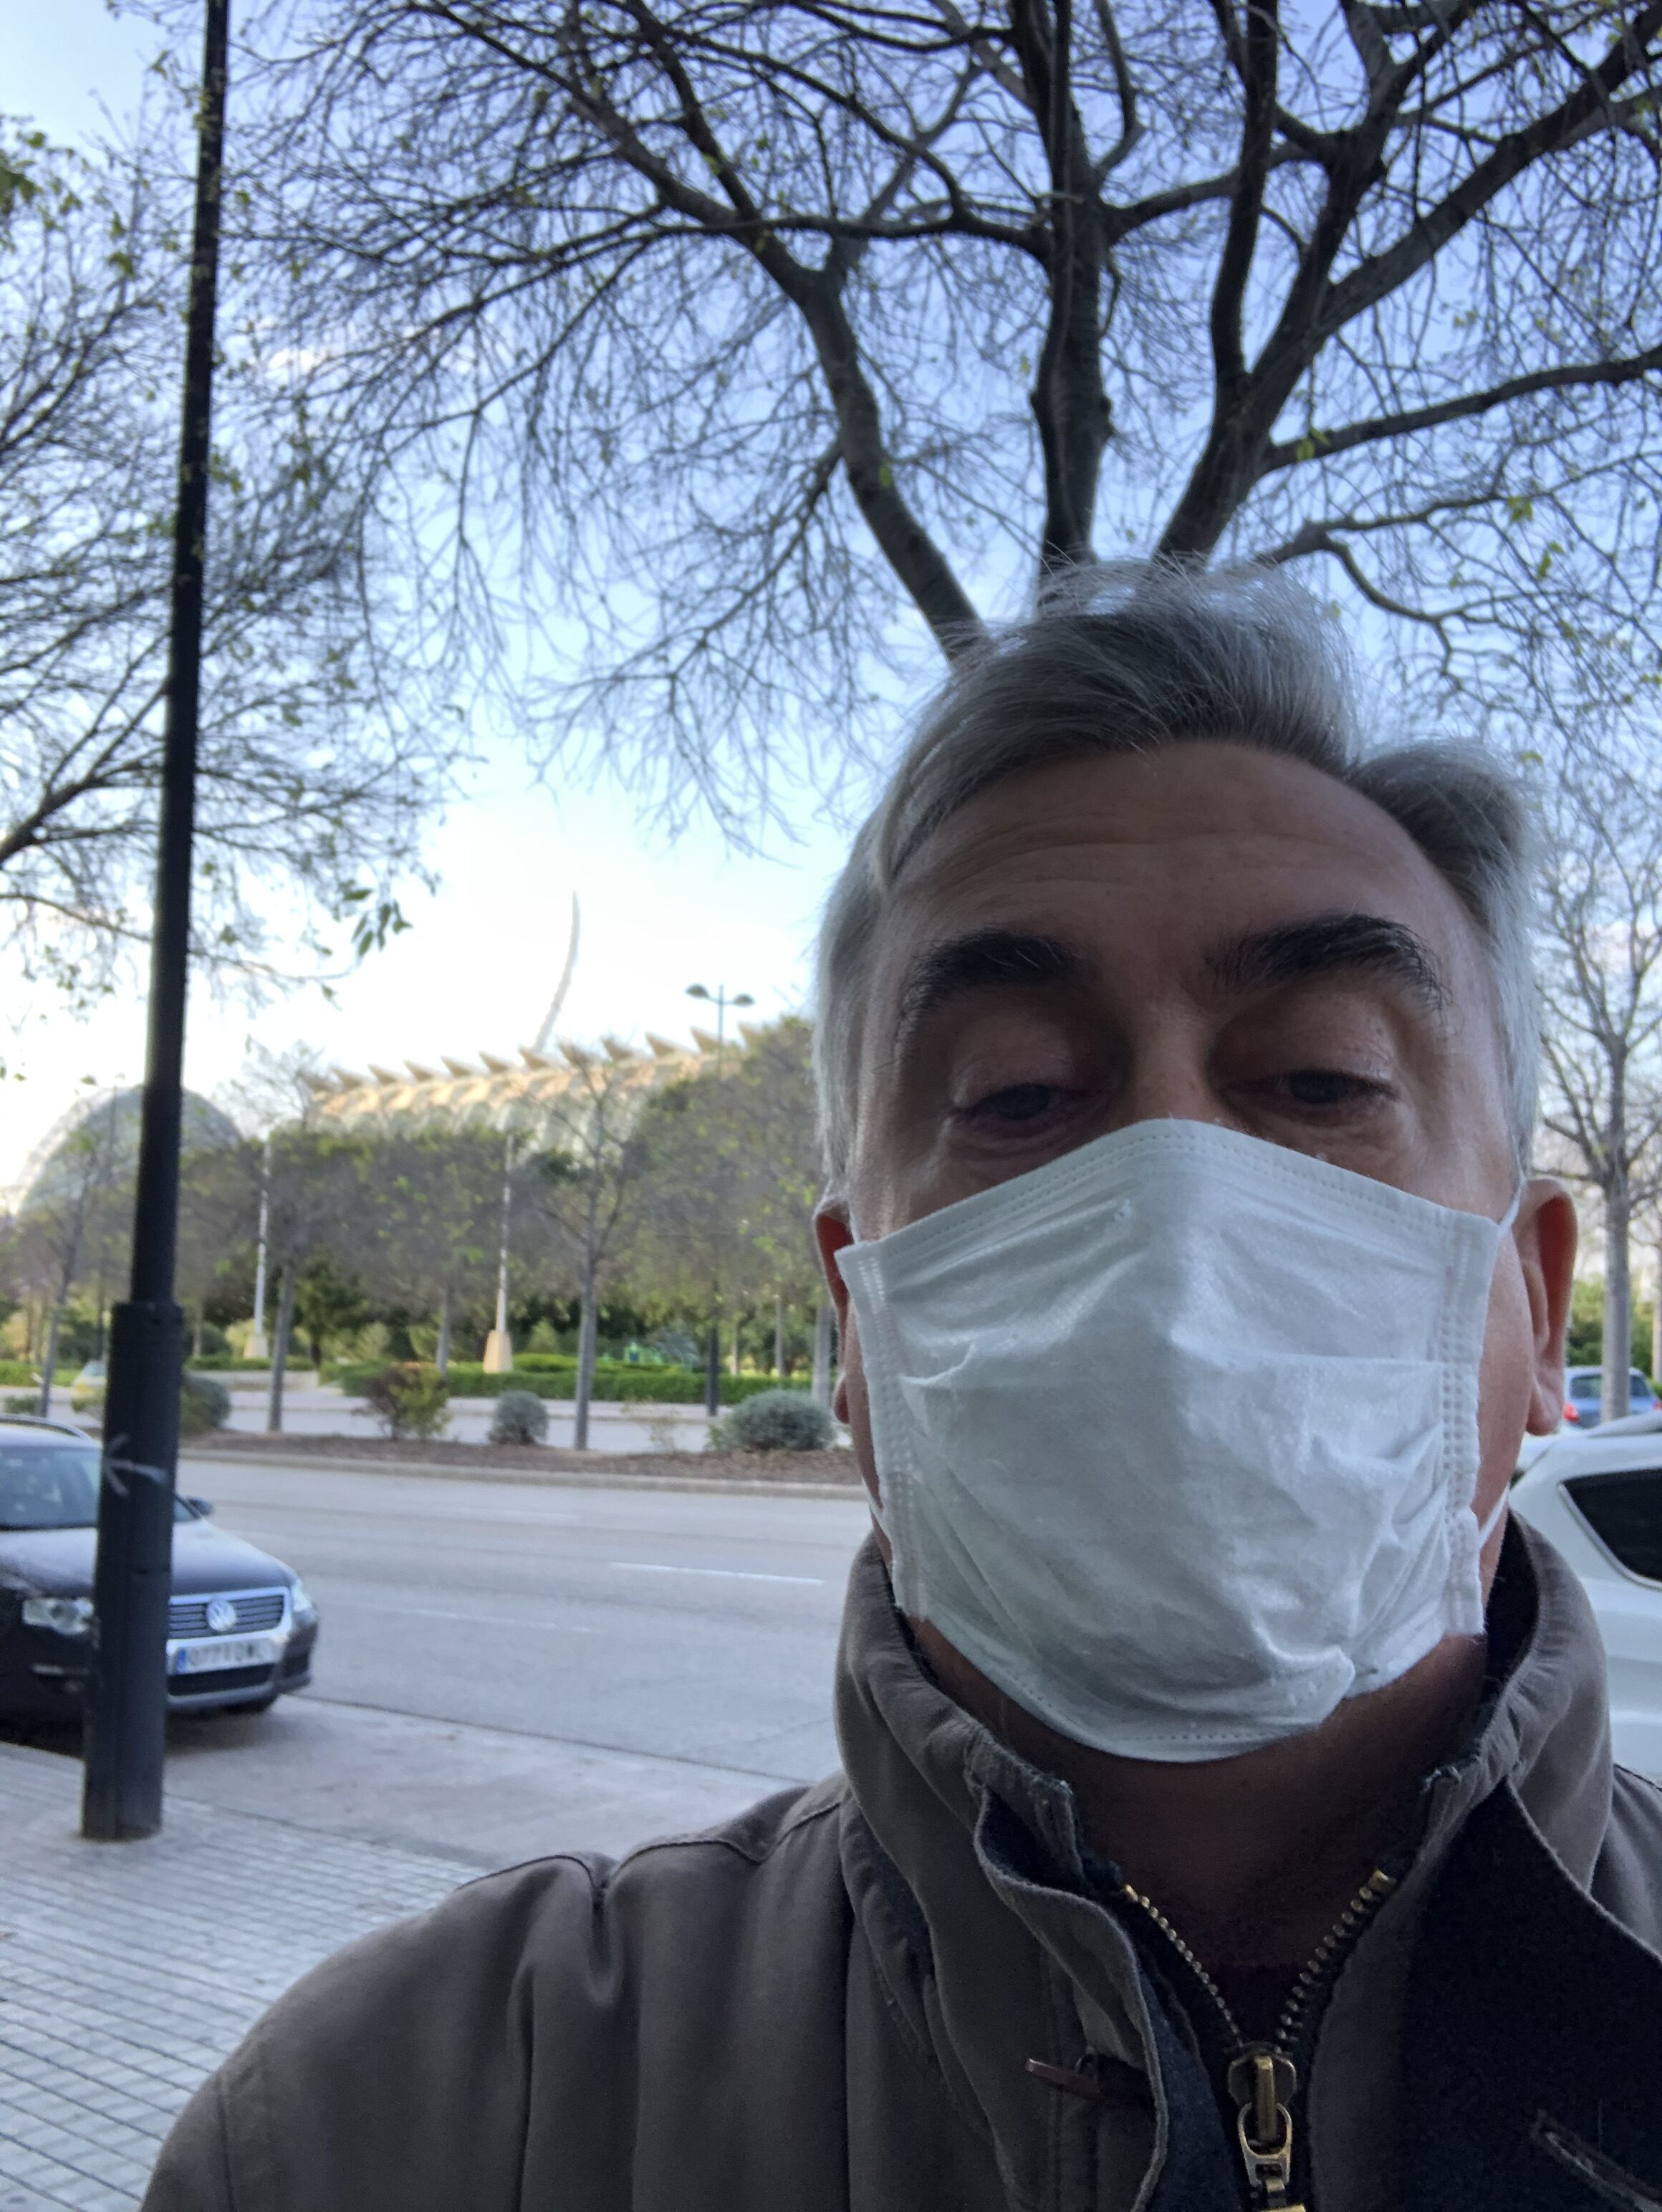with_mask: (732, 589, 1662, 1861)
